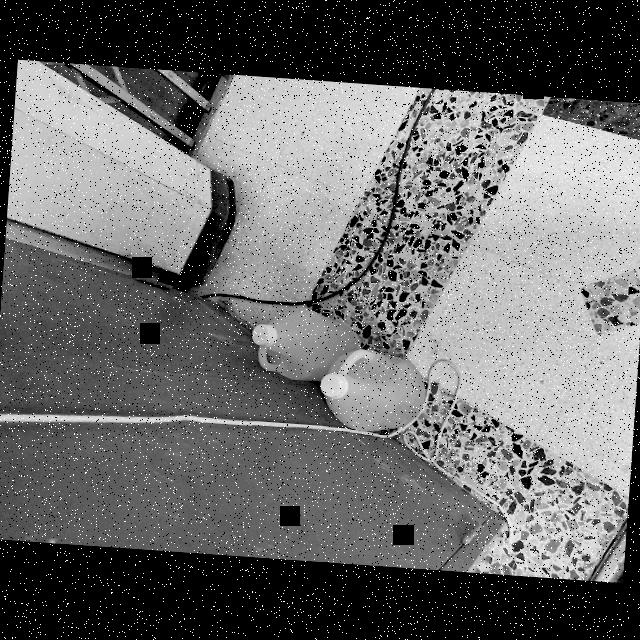chemical_plastic_gallon: (308, 334, 444, 446), (222, 296, 369, 386)
